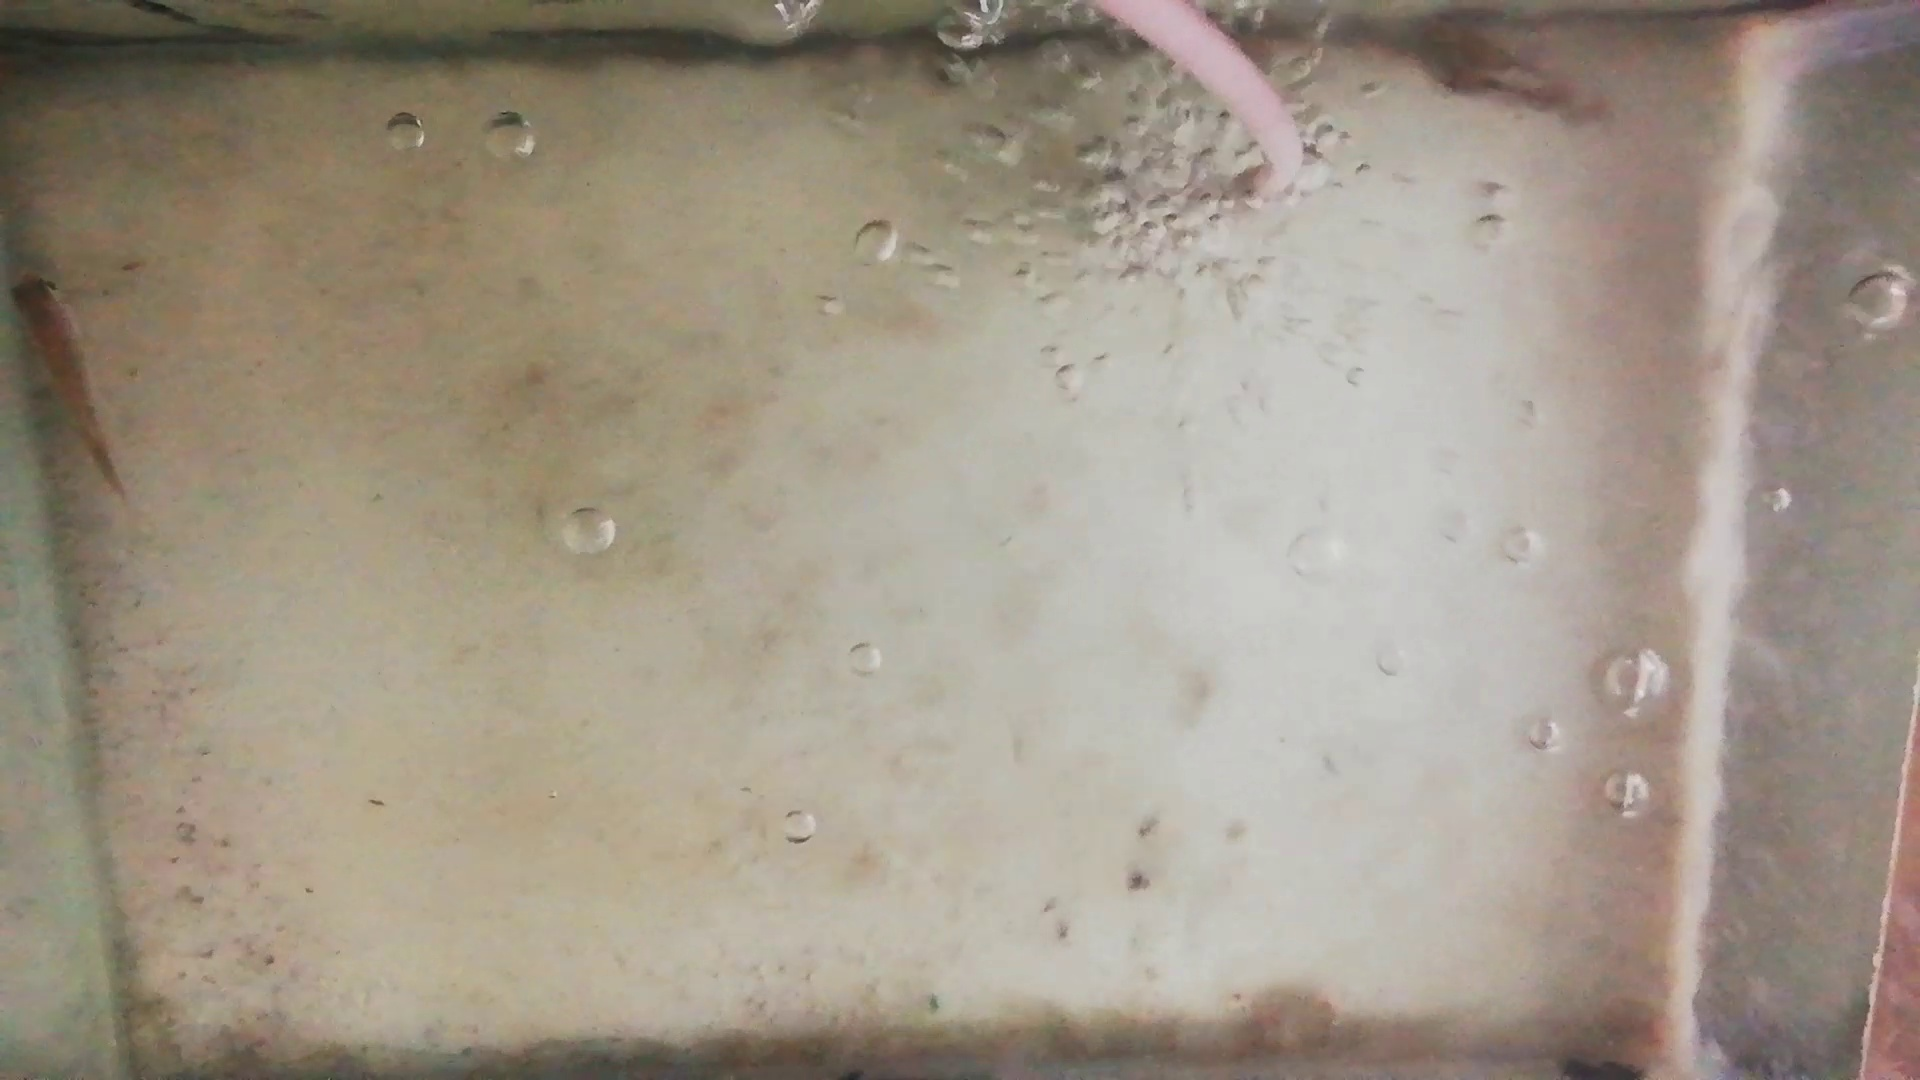fish: (11, 276, 124, 498), (1420, 41, 1582, 117)
